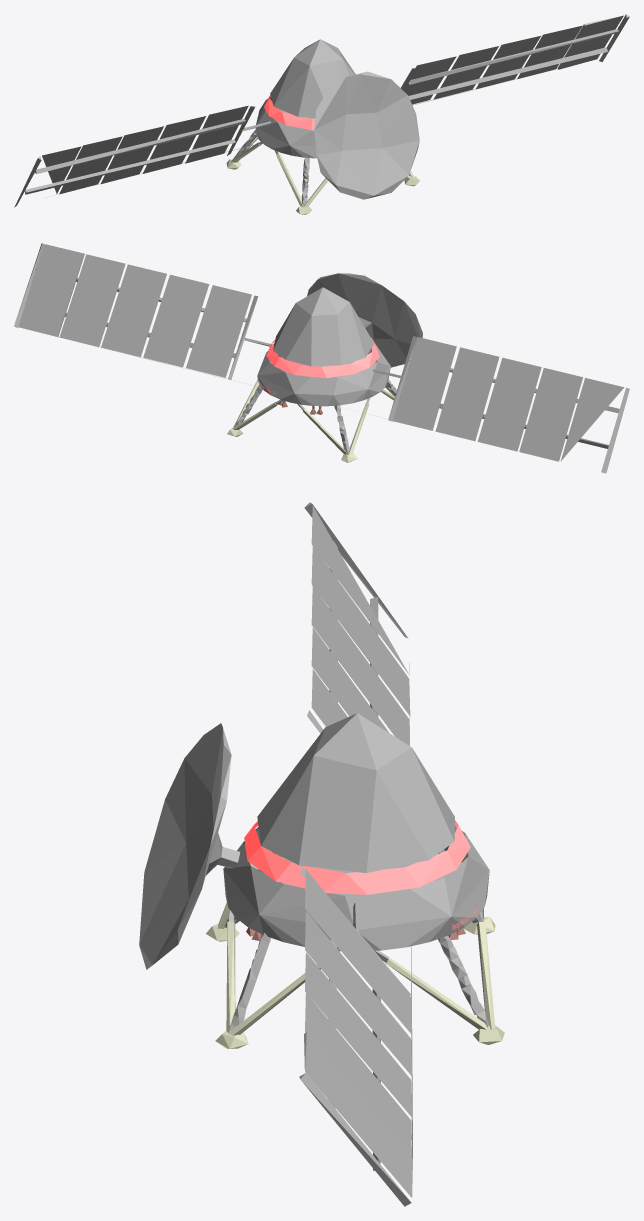
The model's file is ehdx1_toy.glb.
3 renders of one model, top to bottom at view 1: azimuth 30°, elevation 25°; view 2: azimuth 150°, elevation 25°; view 3: azimuth 270°, elevation 25°, orthographic. The views are drawn at different scales.
Visible parts, largest first — view 1: Solar_Panel, Radar, Body, Solar_Panel_Skeleton, Legs_Hydrolic, Lights, Legs_Springs, Feets; view 2: Solar_Panel, Body, Radar, Solar_Panel_Skeleton, Lights, Legs_Hydrolic, Legs_Springs; view 3: Body, Solar_Panel, Radar, Lights, Legs_Hydrolic, Solar_Panel_Skeleton, Legs_Springs, Feets.
Part boxes in pixels (x1,y1,x2,y2): Solar_Panel: [42, 15, 623, 194]; Radar: [314, 71, 419, 199]; Body: [255, 39, 355, 158]; Solar_Panel_Skeleton: [14, 14, 629, 207]; Legs_Hydrolic: [231, 137, 414, 207]; Lights: [264, 95, 315, 129]; Legs_Springs: [233, 130, 412, 205]; Feets: [226, 159, 419, 214]; Solar_Panel: [18, 244, 623, 461]; Body: [257, 287, 390, 406]; Radar: [307, 273, 422, 367]; Solar_Panel_Skeleton: [14, 243, 629, 473]; Lights: [266, 337, 379, 378]; Legs_Hydrolic: [232, 359, 394, 454]; Legs_Springs: [234, 363, 396, 454]; Body: [223, 713, 489, 950]; Solar_Panel: [304, 505, 412, 1197]; Radar: [139, 723, 262, 969]; Lights: [244, 820, 470, 894]; Legs_Hydrolic: [217, 902, 495, 1035]; Solar_Panel_Skeleton: [299, 502, 411, 1206]; Legs_Springs: [224, 849, 489, 1032]; Feets: [206, 917, 504, 1048].
Size of the model in its own units: 0.2151 by 0.0483 by 0.0577.
